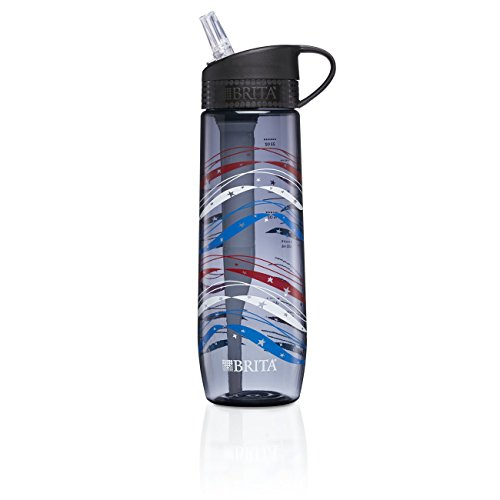Rec_Plastic: (147, 1, 361, 458)
